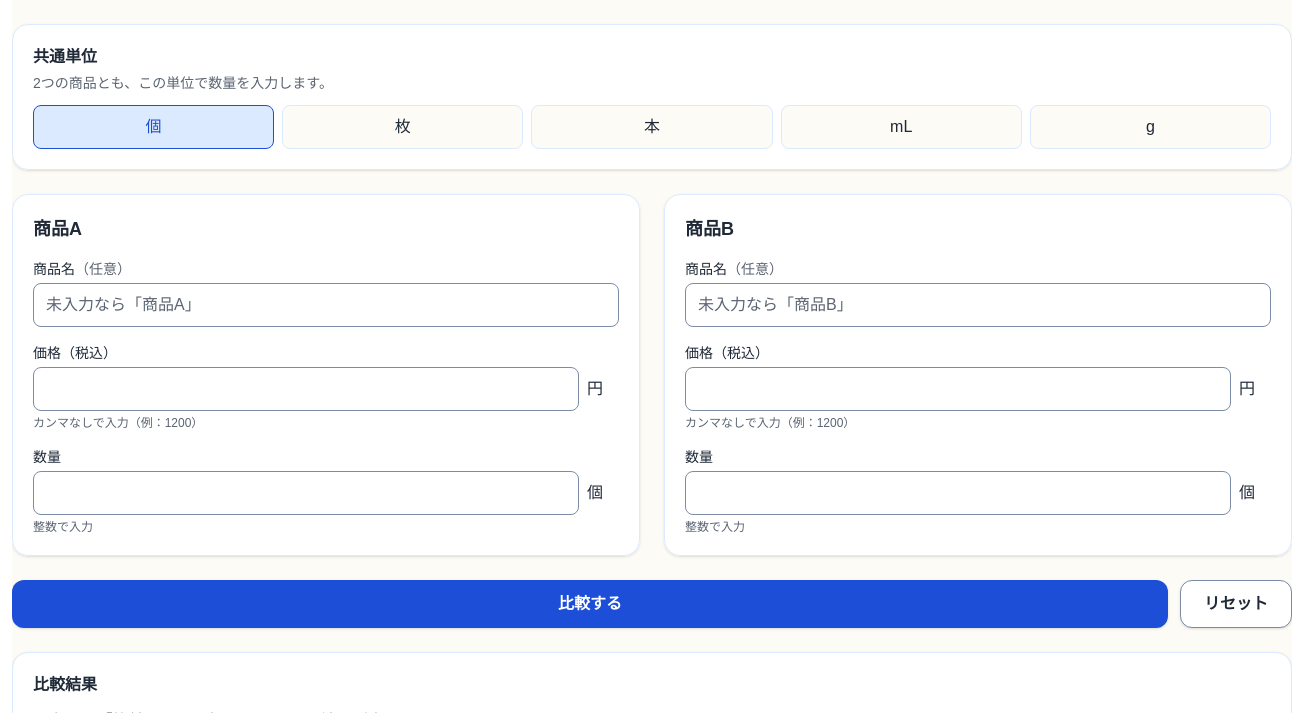
Test: UnitPriceComparer：入力画面 › 単位を変えると両方の数量欄の単位が変わり、入力済みの値は保持される
Type "化粧水" into the field labelled "商品名（任意）" below "商品A".
click(326, 305); type("化粧水")  # box [33,283,619,327]
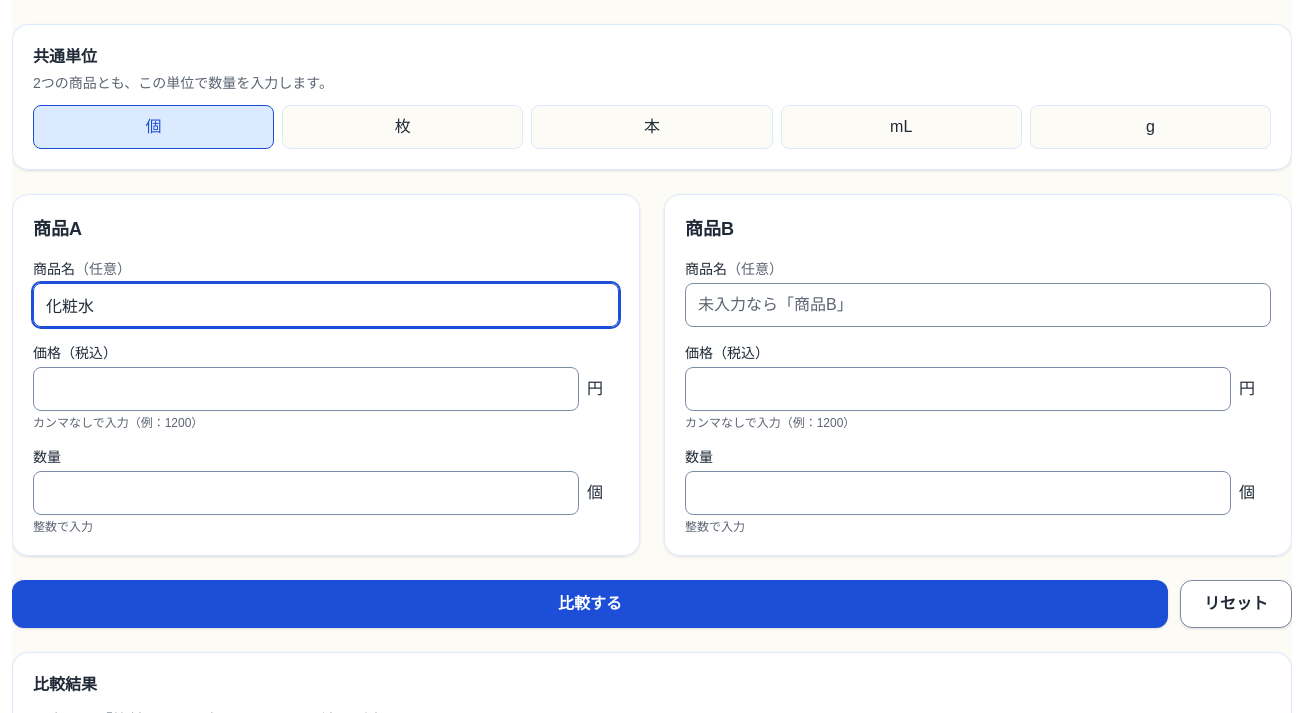
Type "1200" into the field labelled "価格（税込）" below "商品A".
click(306, 389); type("1200")  # box [33,367,579,411]
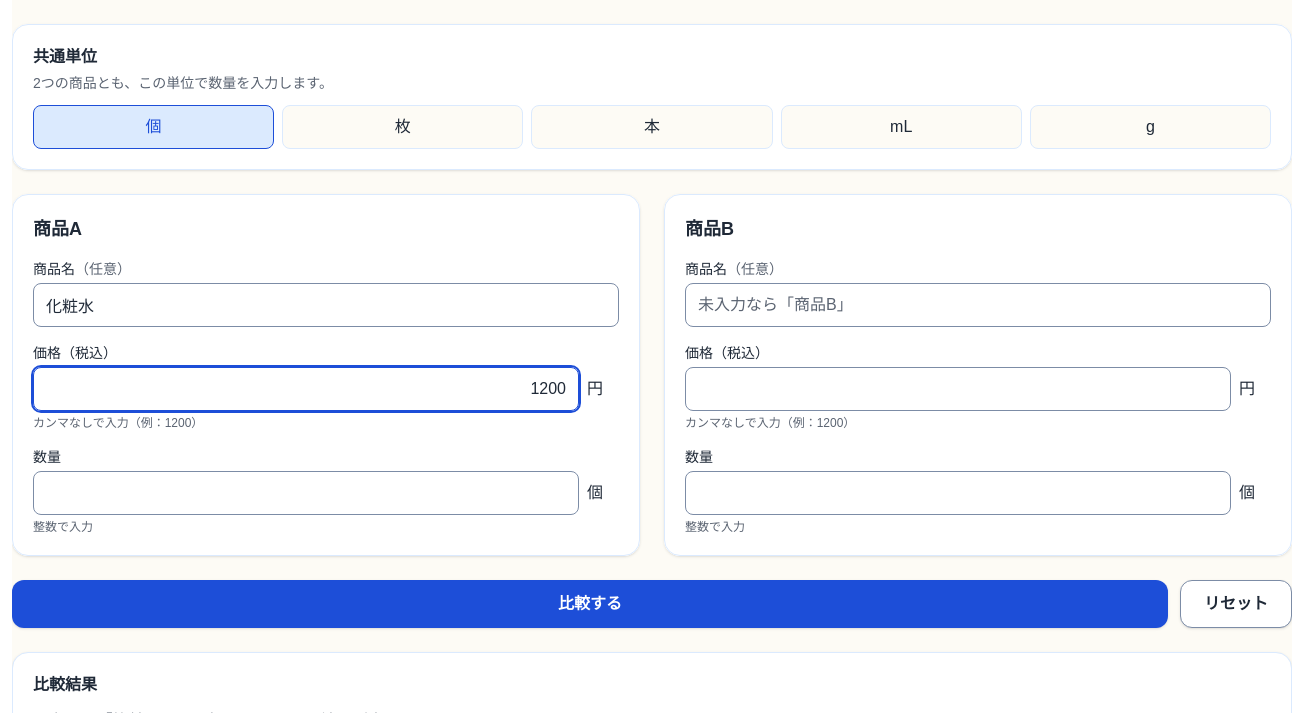
Type "50" into the field labelled "数量" below "商品A".
click(306, 493); type("50")  # box [33,471,579,515]
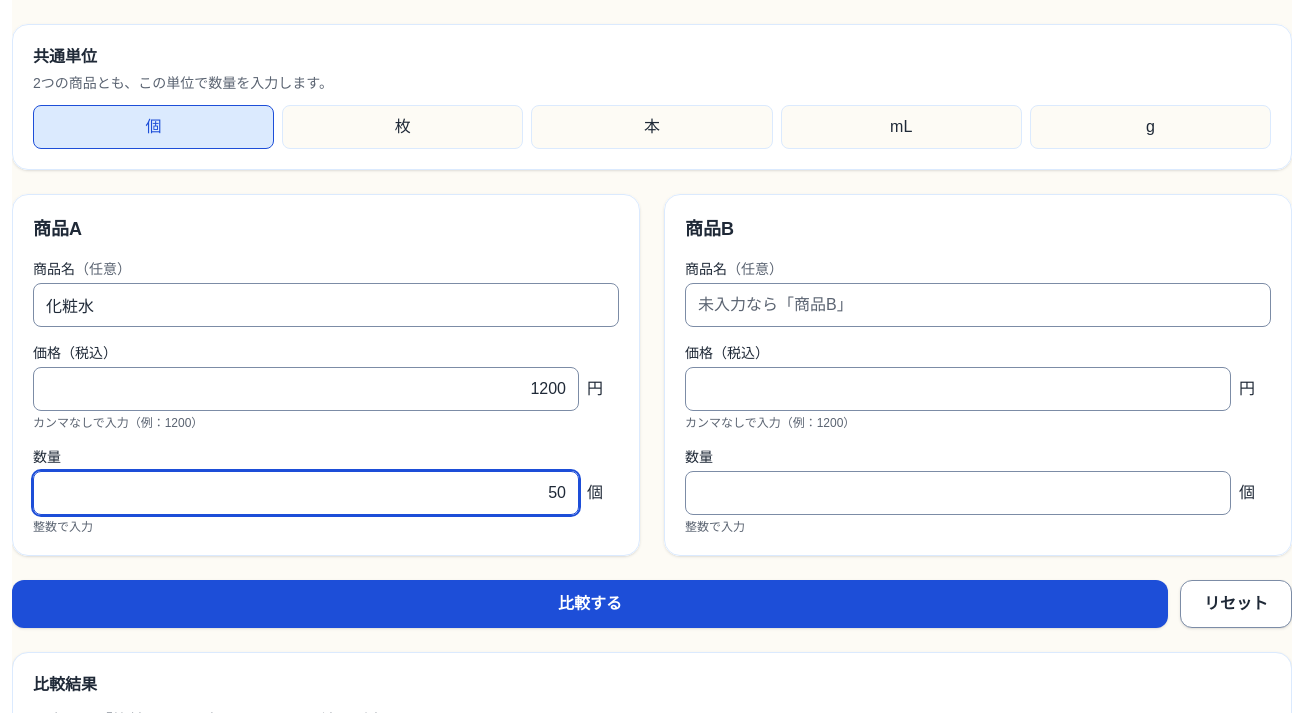
Type "１８００" into the field labelled "価格（税込）" below "商品B".
click(958, 389); type("１８００")  # box [685,367,1231,411]
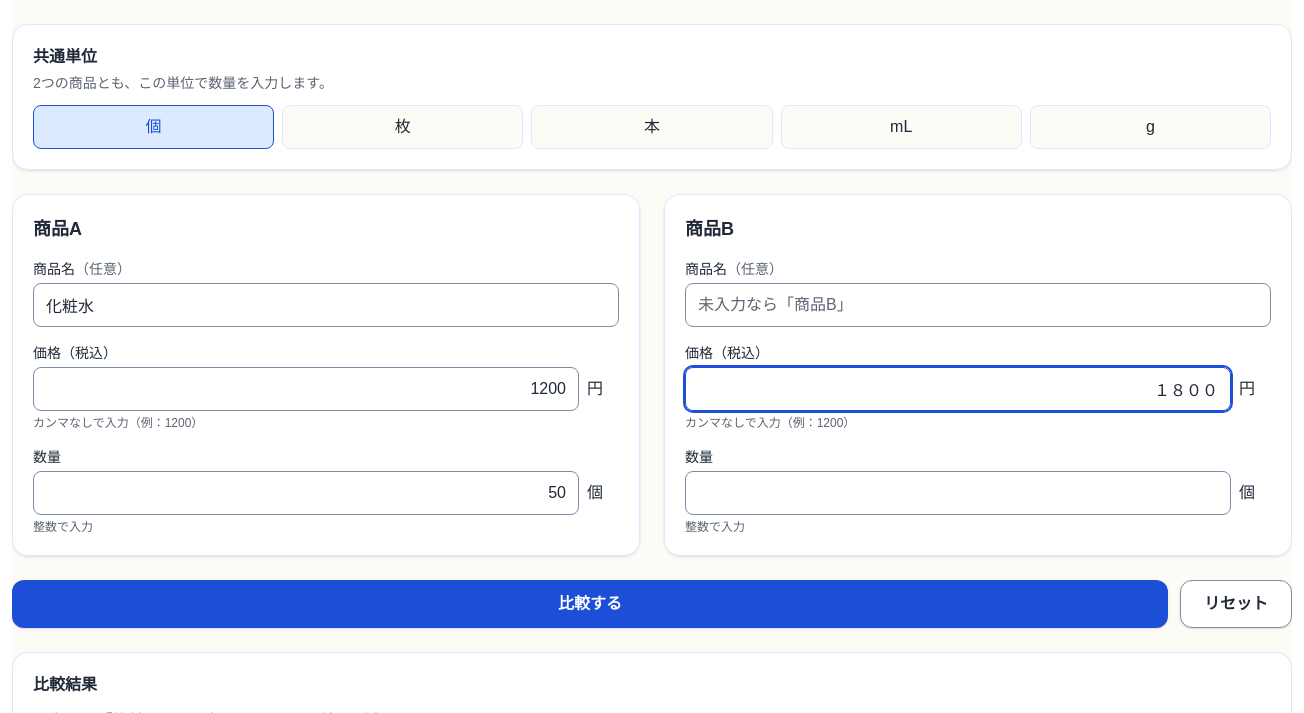
Type "100" into the field labelled "数量" below "商品B".
click(958, 493); type("100")  # box [685,471,1231,515]
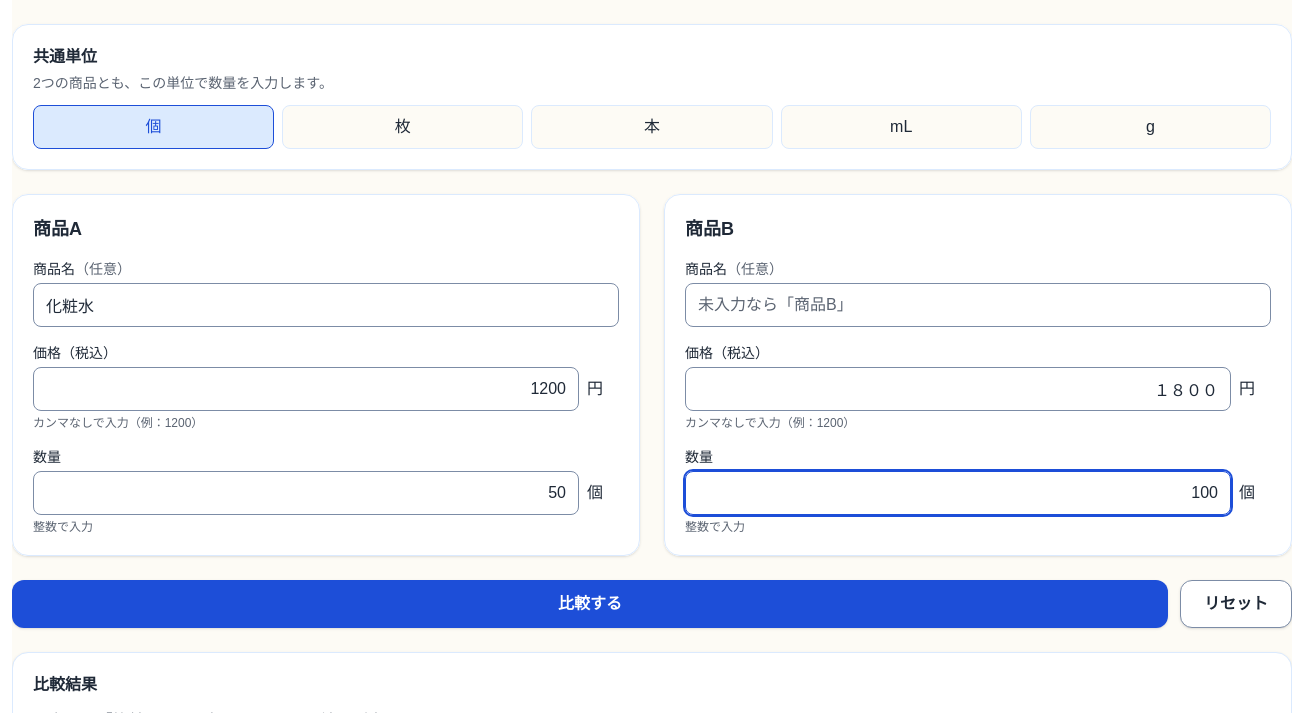
Click the radio button labelled "mL".
click(901, 127)  # box [781,105,1022,149]
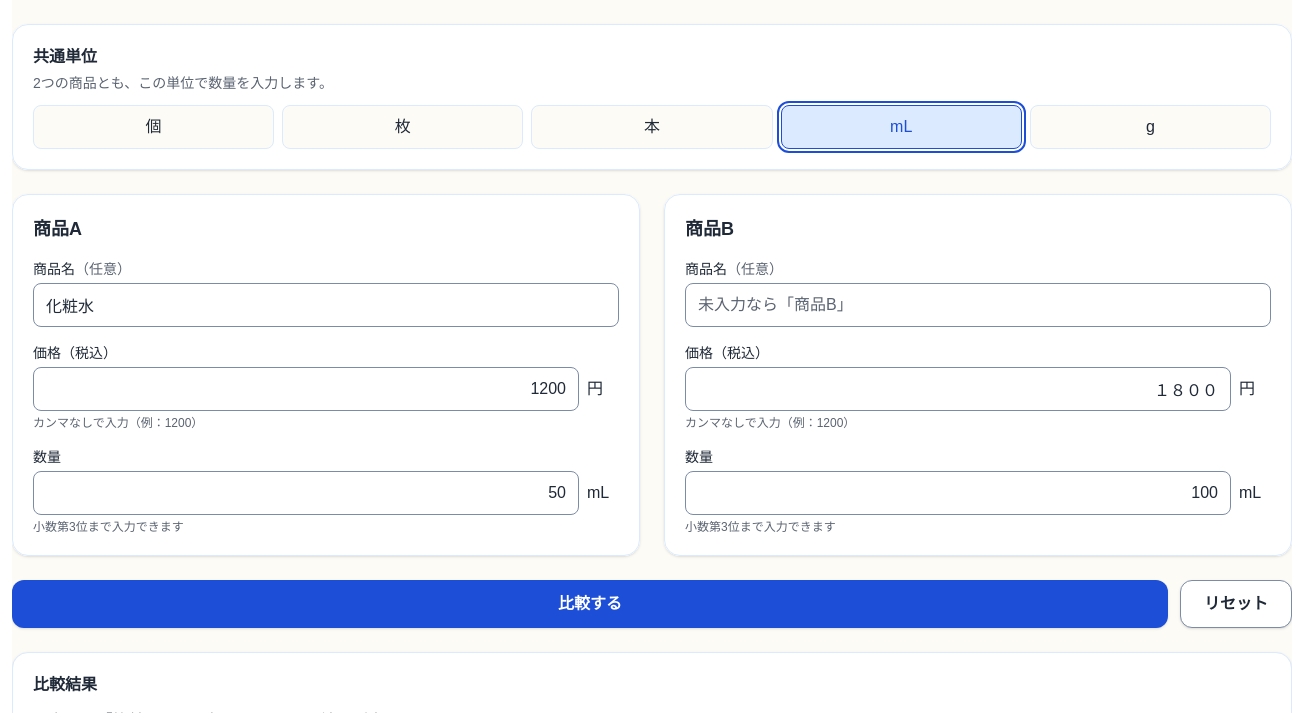
Check: the radio button labelled "mL" is checked, box [781,105,1022,149]
Check: the 2nd text "mL" is shown, box [587,484,609,501]
Check: the 3rd text "mL" is shown, box [1239,484,1261,501]
